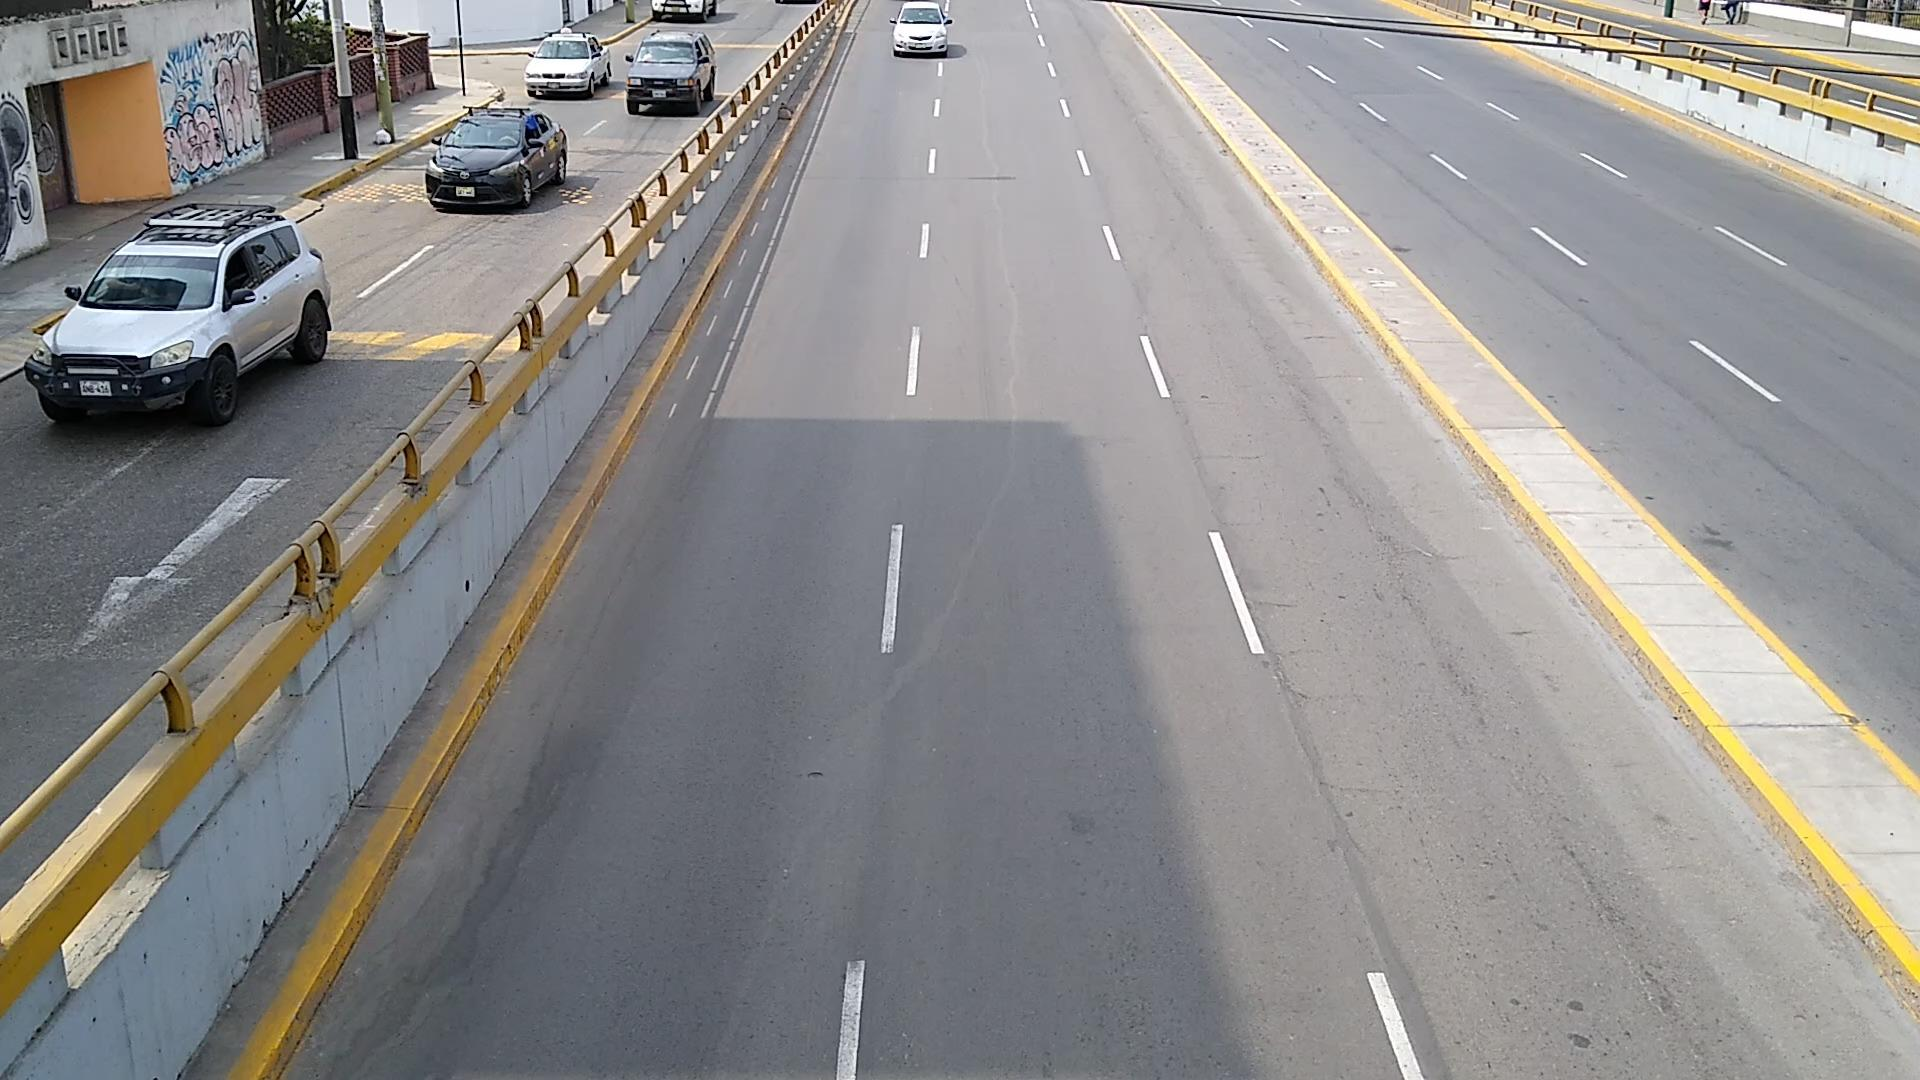car: (18, 203, 330, 426), (427, 108, 566, 210), (626, 30, 716, 112), (525, 30, 612, 94), (893, 0, 952, 57)
